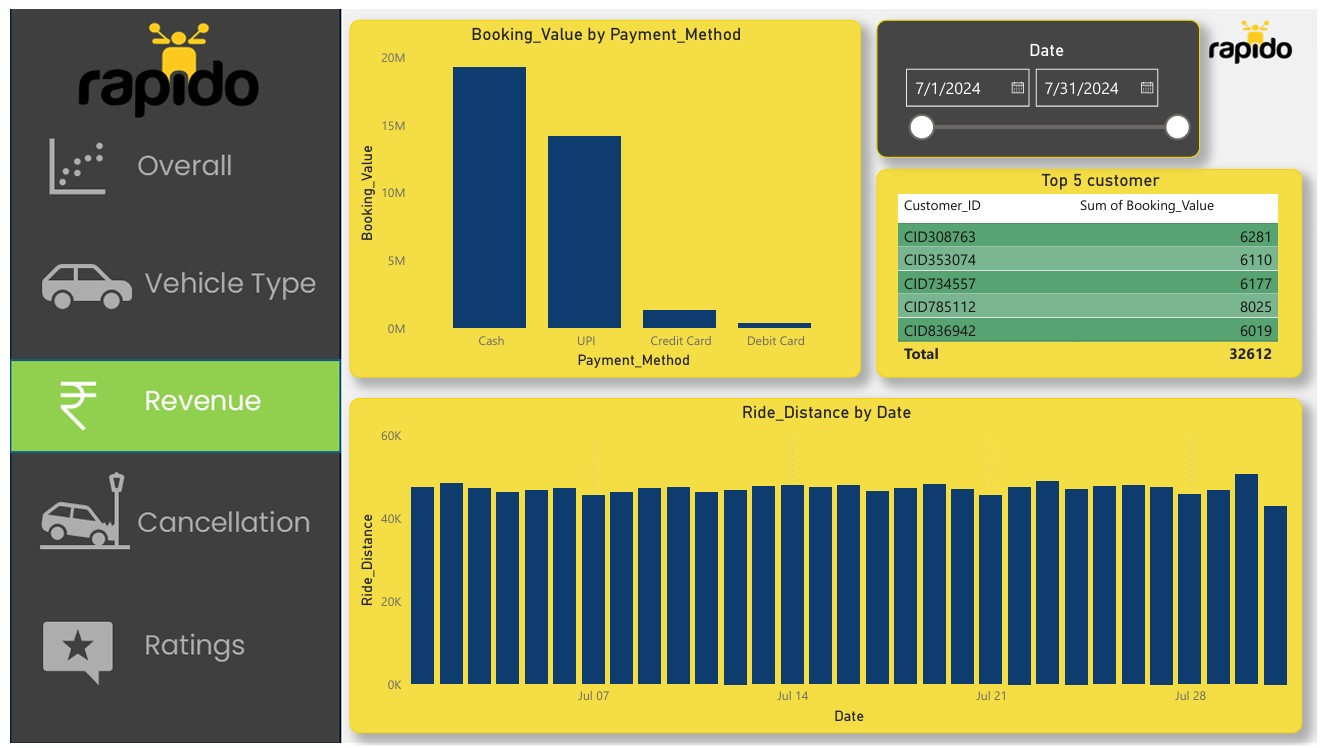

The dashboard page shown, as its layout file describes it:
{"tool":"powerbi","page":{"name":"Revenue","canvas":[1280,720],"ordinal":2},"visuals":[{"type":"actionButton","box":[0,222,319.7,88.1],"z":0},{"type":"actionButton","box":[0,457.2,319.7,88.1],"z":1000},{"type":"actionButton","box":[0,580.3,319.7,88.1],"z":2000},{"type":"actionButton","box":[0,112.2,319.7,88.1],"z":3000},{"type":"clusteredColumnChart","fields":{"Y":["Sum(July.Booking_Value)"],"Category":["July.Payment_Method"]},"box":[332.1,9.6,500.9,349.9],"z":4000},{"type":"clusteredColumnChart","fields":{"Y":["Sum(July.Ride_Distance)"],"Category":["July.Date"]},"box":[332.1,380.1,933.1,328],"z":5000},{"type":"slicer","title":"Date","fields":{"Values":["July.Date"]},"box":[848,9.6,317,135.8],"z":6000},{"type":"tableEx","title":"Top 5 customer","fields":{"Values":["July.Customer_ID","Sum(July.Booking_Value)"]},"box":[848,156.4,417.2,203.1],"z":7000}]}

Visuals, with their boxes in screenshot pixels (x1, y1, x2, y2), scaled from the page's 1280x720 canvas onto the 1320x748 screenshot:
actionButton: bbox=(0, 231, 330, 322)
actionButton: bbox=(0, 475, 330, 567)
actionButton: bbox=(0, 603, 330, 694)
actionButton: bbox=(0, 117, 330, 208)
clusteredColumnChart - Sum(July.Booking_Value) x July.Payment_Method: bbox=(342, 10, 859, 373)
clusteredColumnChart - Sum(July.Ride_Distance) x July.Date: bbox=(342, 395, 1305, 736)
"Date" slicer: bbox=(874, 10, 1201, 151)
"Top 5 customer" tableEx: bbox=(874, 162, 1305, 373)
